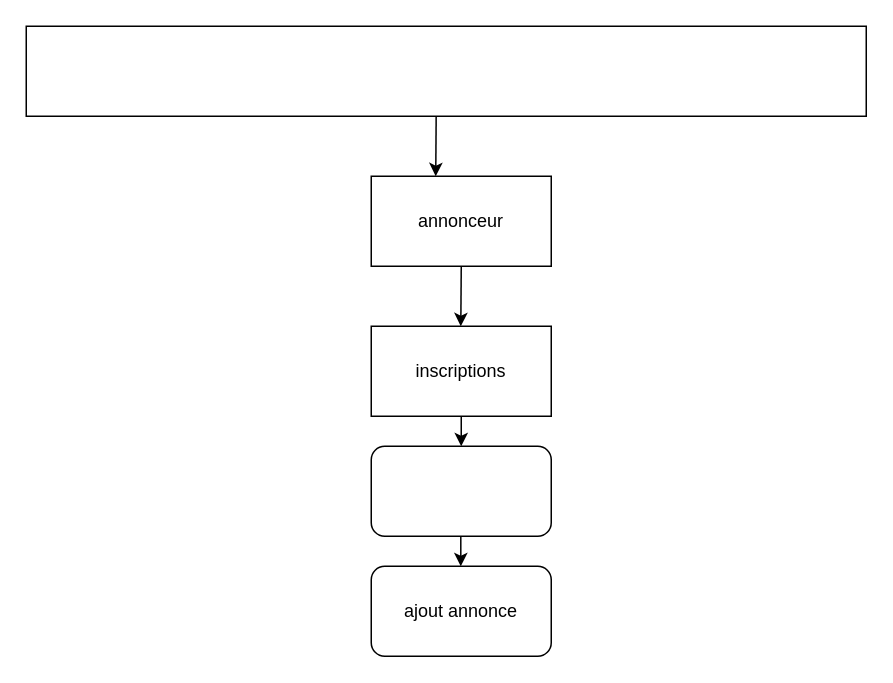
The diagram is 893 pixels wide and 683 high, and some of its shapes have lost their labels. Here are the shapes that lost their labels. From the top down, the centre of each, then its label:
At pixel 445 70: "Procédure d'annonceur".
At pixel 460 490: "authentification".
